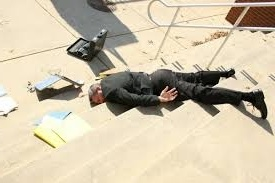fall: (79, 65, 270, 119)
